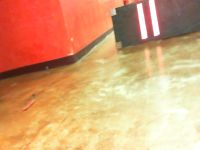switch: (148, 1, 161, 36), (137, 3, 149, 39)
